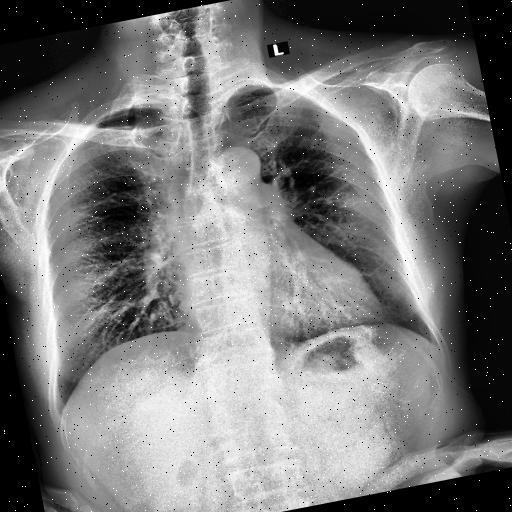0- Aortic enlargement: (213, 140, 266, 198), (220, 144, 262, 182)
3- Cardiomegaly: (175, 258, 395, 360), (180, 268, 386, 361)
